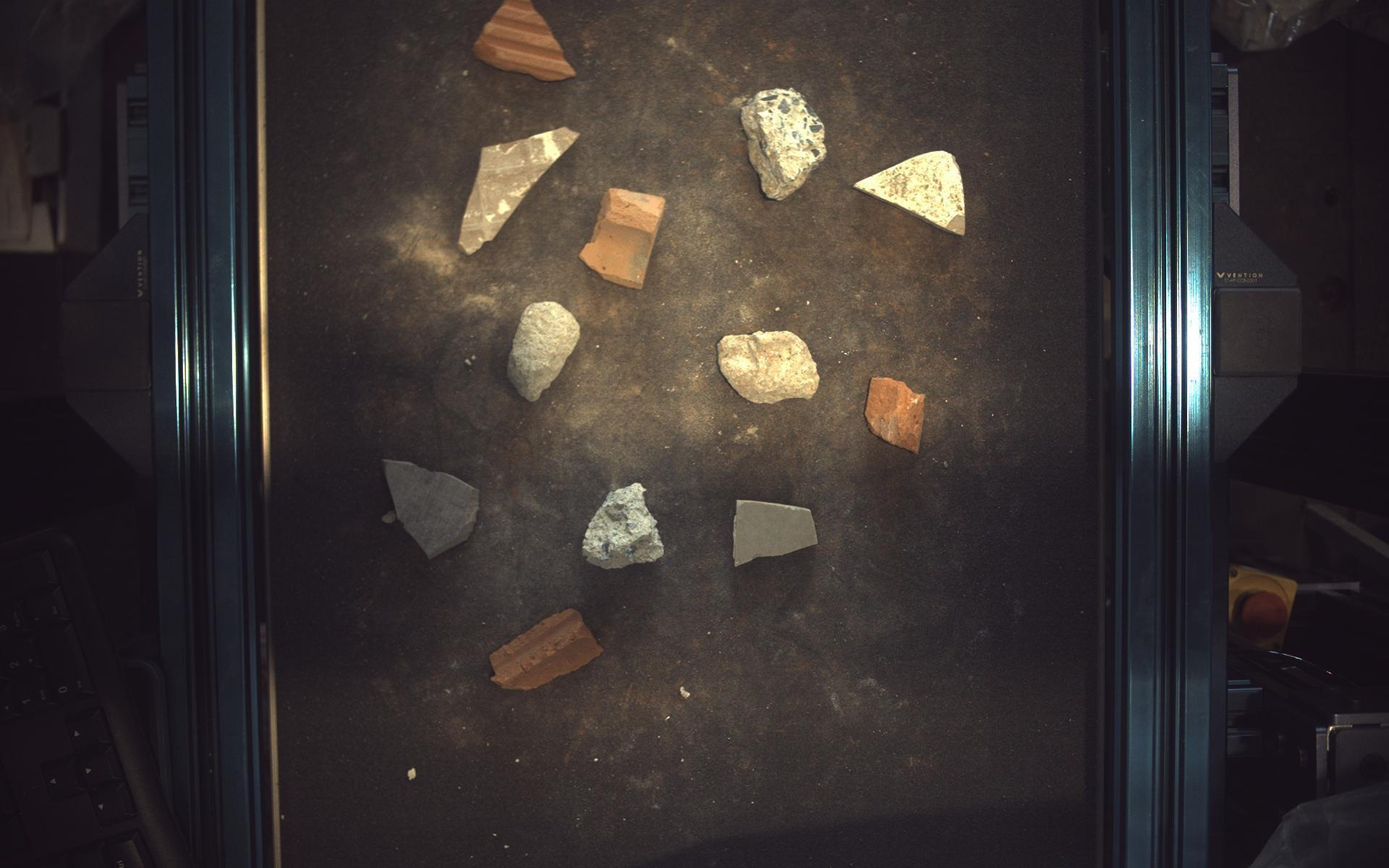brick: (490, 610, 603, 691), (581, 187, 666, 289), (474, 1, 577, 80), (867, 378, 927, 454)
concrete: (742, 88, 828, 200), (719, 331, 821, 404), (508, 301, 580, 401), (583, 483, 665, 570)
tile: (459, 126, 579, 254), (856, 150, 968, 235), (385, 460, 479, 559), (734, 501, 819, 568)
